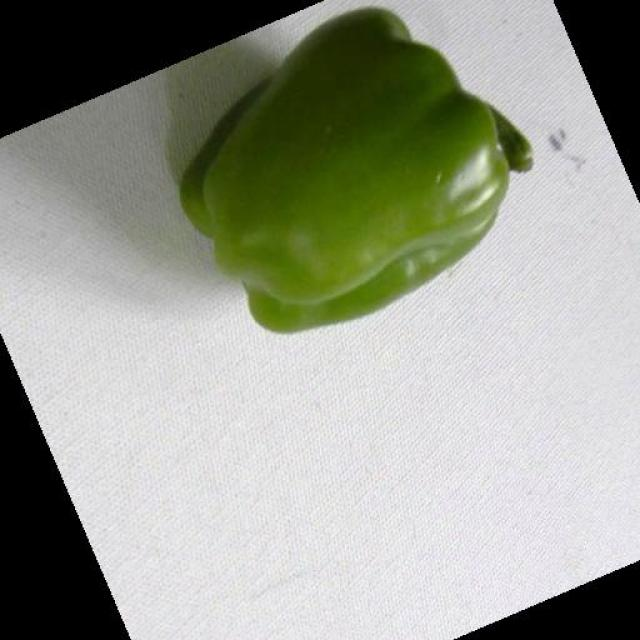Fresh_Capsicum: (200, 4, 547, 340)
